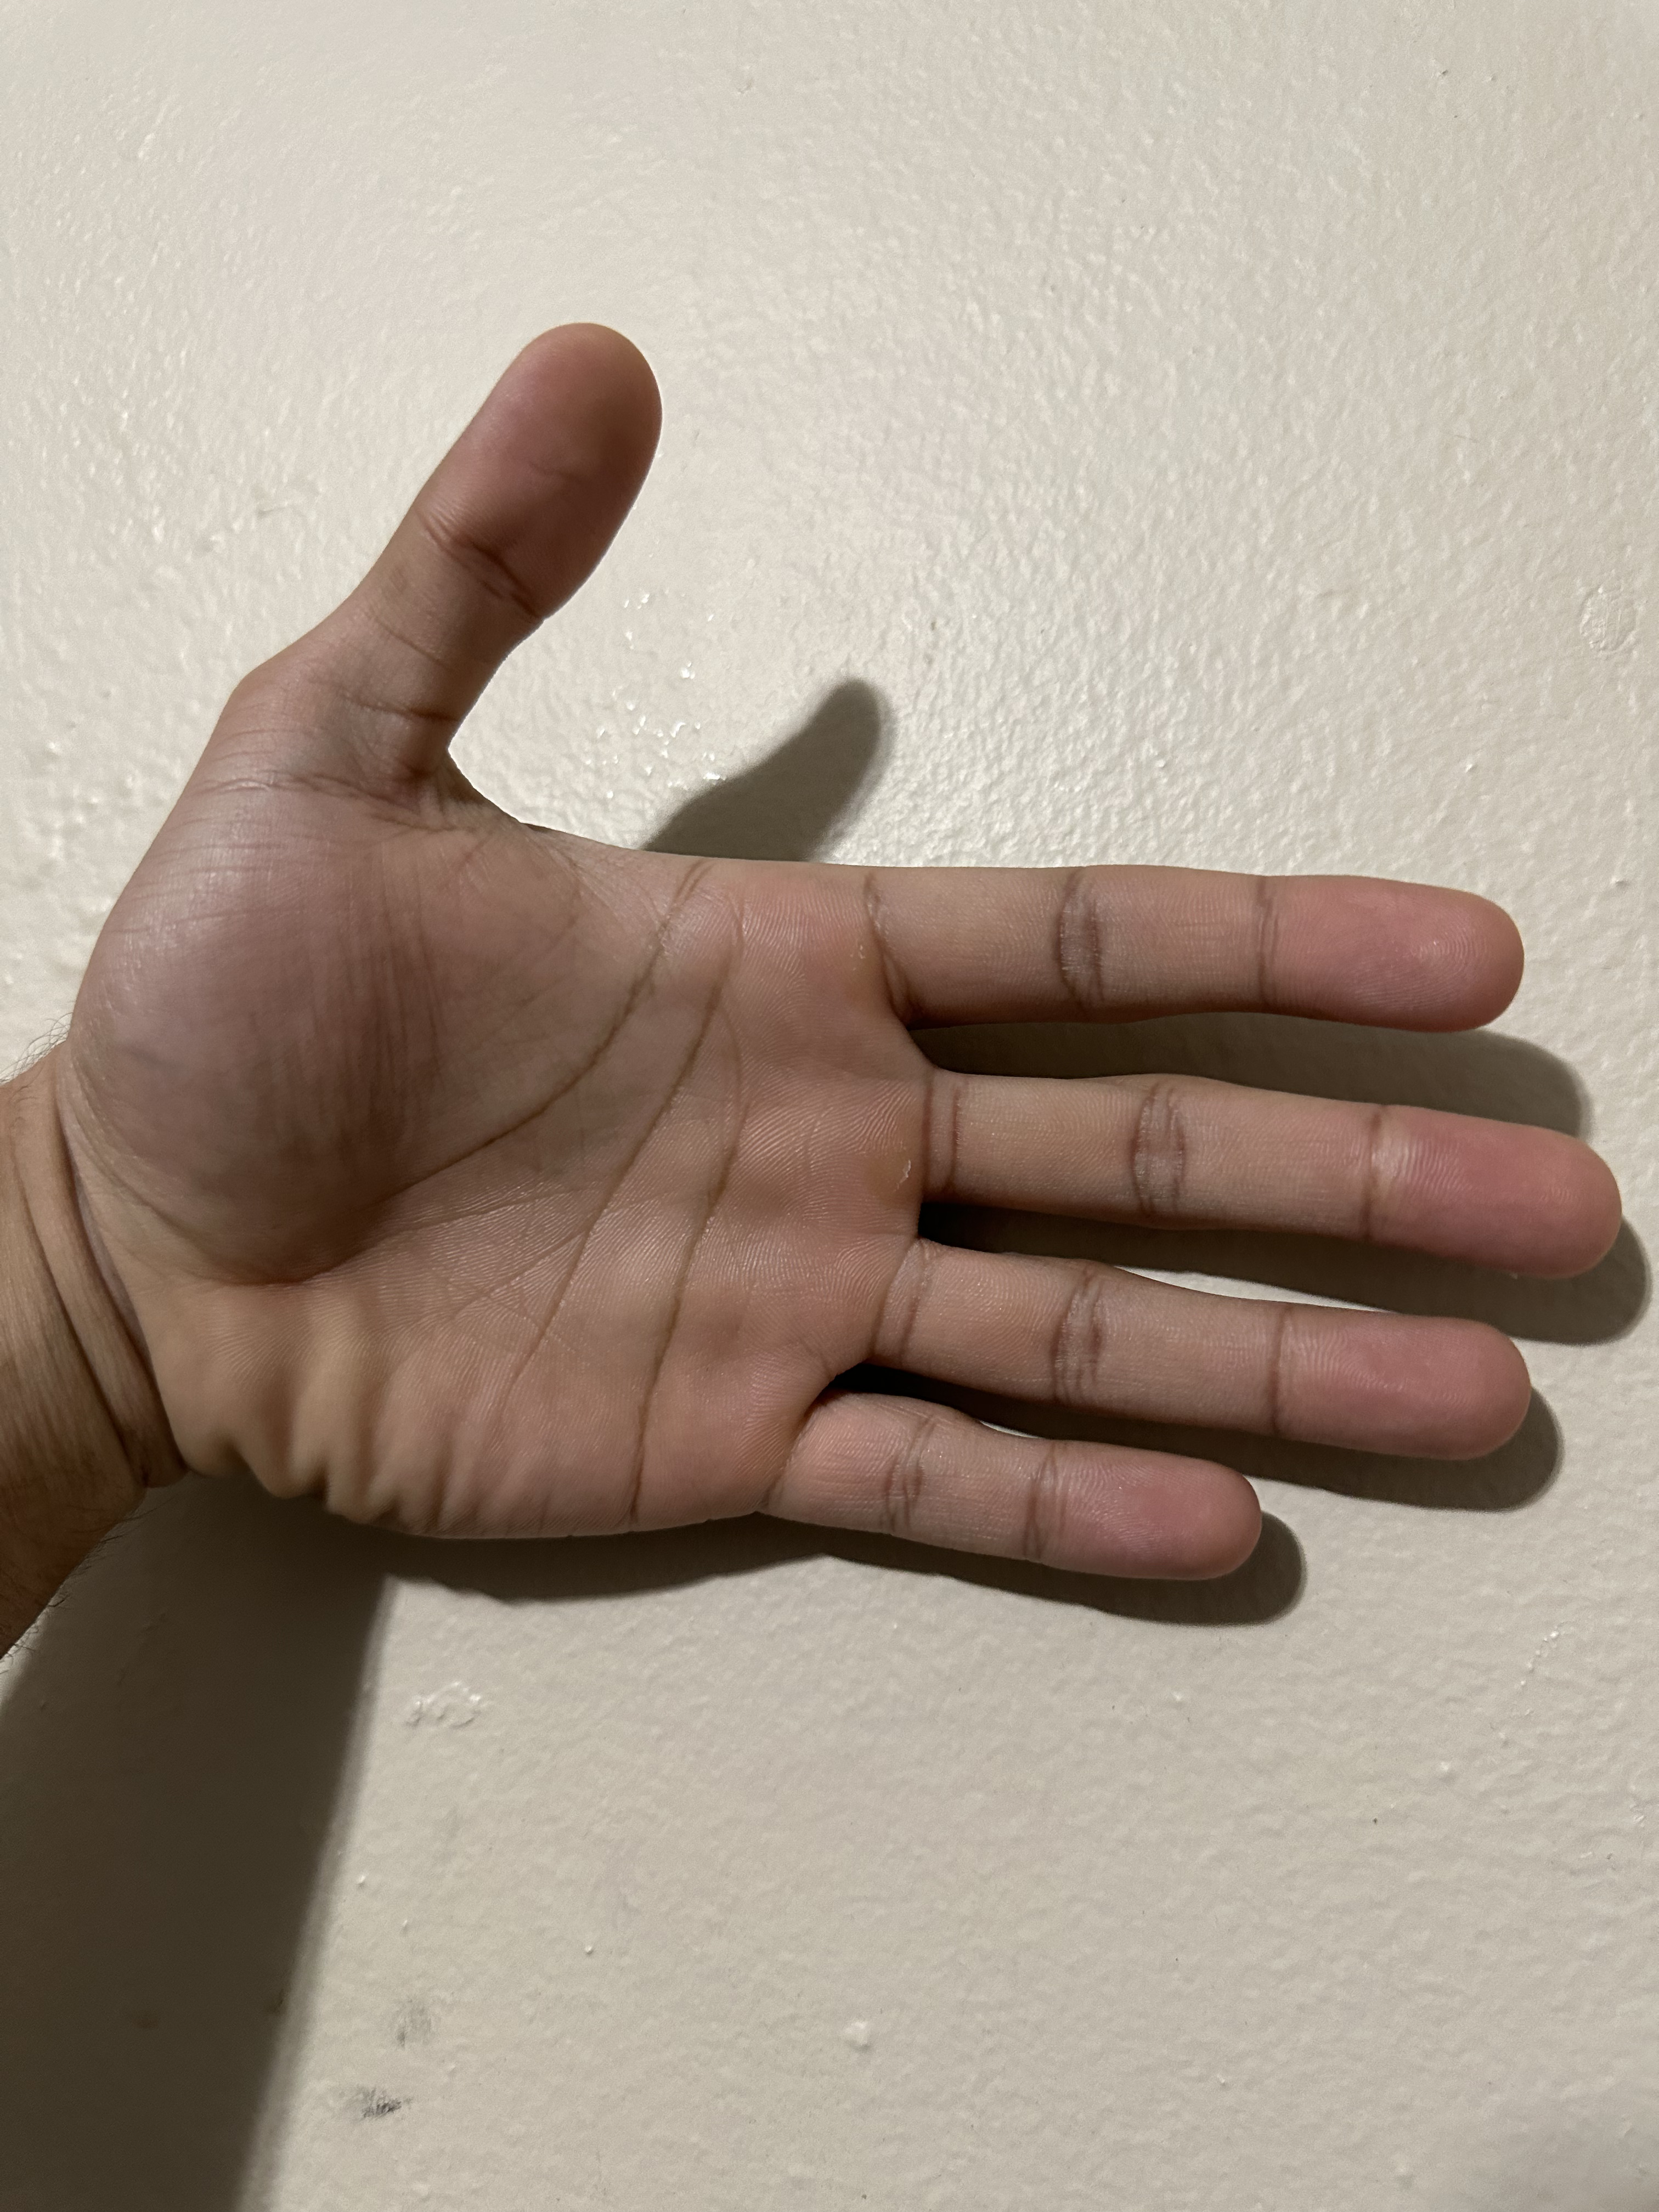finger: (427, 280, 695, 610), (1255, 843, 1560, 1049), (1368, 1076, 1642, 1301), (1279, 1291, 1570, 1487), (1040, 1420, 1293, 1613)
